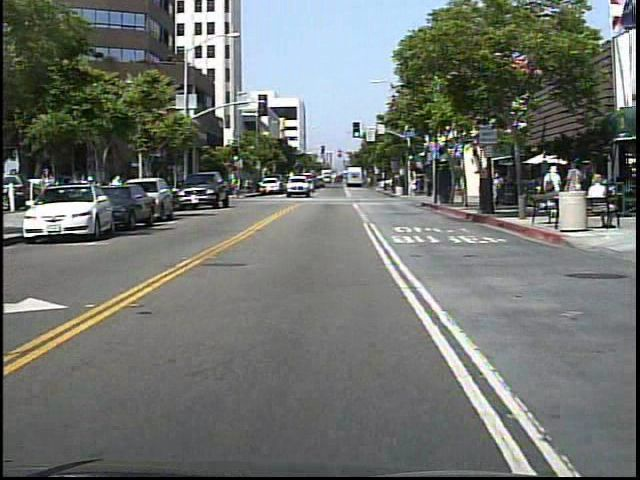person: (36, 164, 58, 221), (232, 174, 244, 201)
